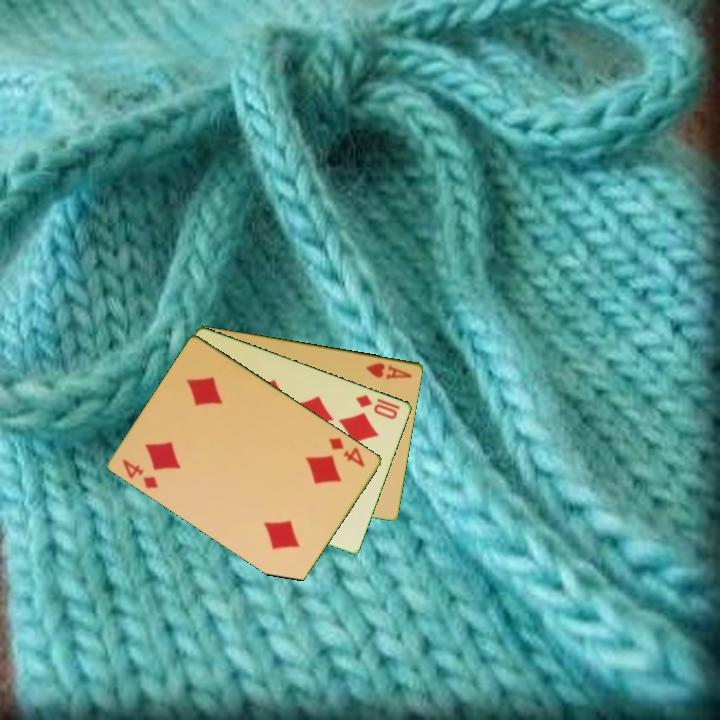10d: (352, 391, 401, 422)
4d: (119, 455, 161, 492), (325, 434, 368, 470)
Ah: (362, 359, 415, 382)
